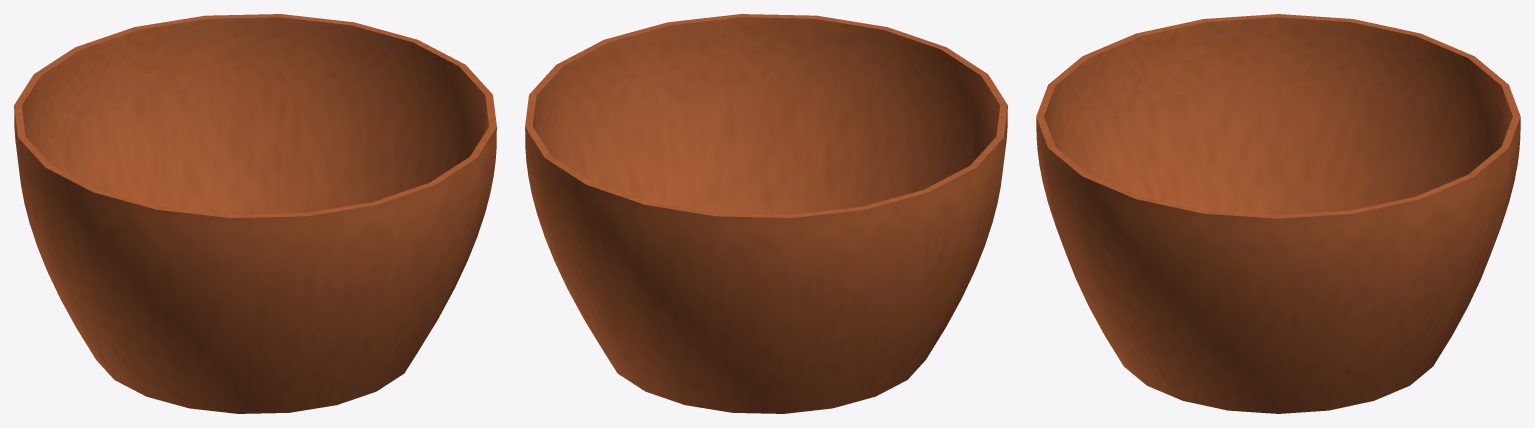
Rendered from bor1.fbx.
3 views of the same model, side by side, from view 1: azimuth 30°, elevation 25°; view 2: azimuth 150°, elevation 25°; view 3: azimuth 270°, elevation 25° (orthographic).
Parts seen in each view (by area): view 1: BezierCurve.005; view 2: BezierCurve.005; view 3: BezierCurve.005.
Part boxes in pixels (x1,y1,x2,y2): BezierCurve.005: (14, 14, 496, 413); BezierCurve.005: (525, 14, 1007, 413); BezierCurve.005: (1036, 14, 1520, 413).
Bounding box in the file's own units: 313 × 163 × 313.
